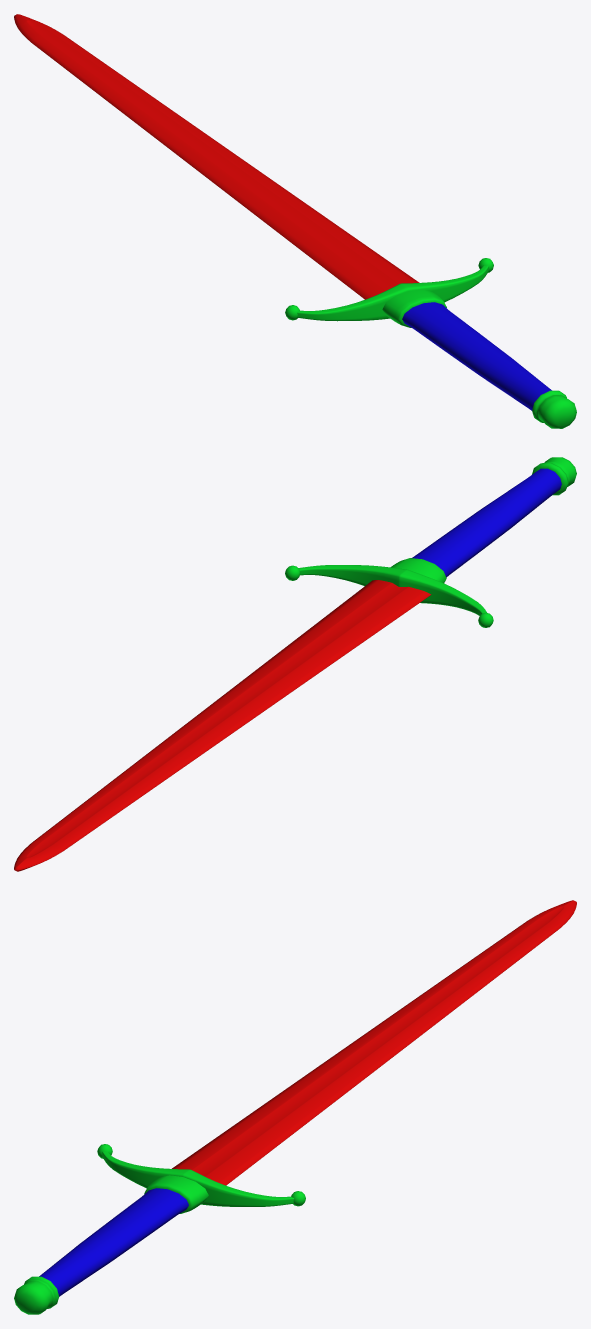
The model's file is sm_Steel_longsword.fbx.
3 renders of one model, top to bottom at view 1: azimuth 30°, elevation 25°; view 2: azimuth 150°, elevation 25°; view 3: azimuth 330°, elevation 25°, orthographic.
Parts seen in each view (by area): view 1: Steel_LongSword; view 2: Steel_LongSword; view 3: Steel_LongSword.
Boxes of the visible parts, x1,y1,x2,y2 form: Steel_LongSword: (14, 14, 576, 428); Steel_LongSword: (14, 457, 576, 871); Steel_LongSword: (14, 900, 576, 1314).
Size of the model in its own units: 37.78 by 5.6 by 174.
